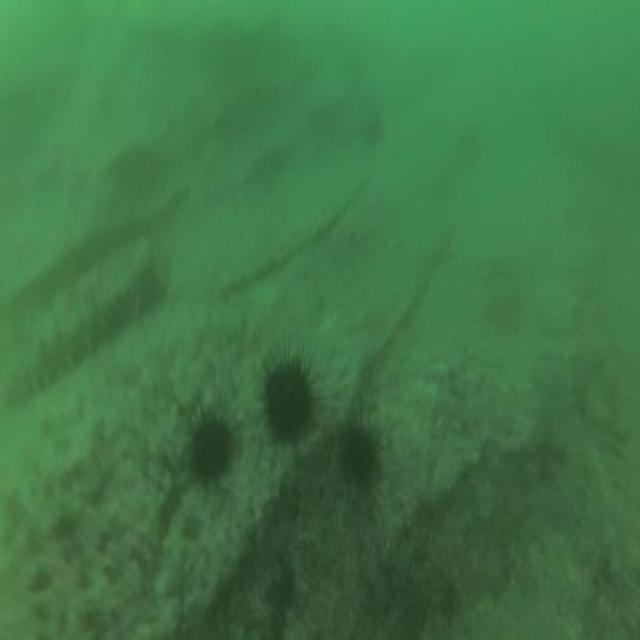echinus: (266, 362, 312, 442), (193, 420, 231, 480), (344, 422, 375, 479)
holothurian: (6, 281, 139, 400)
